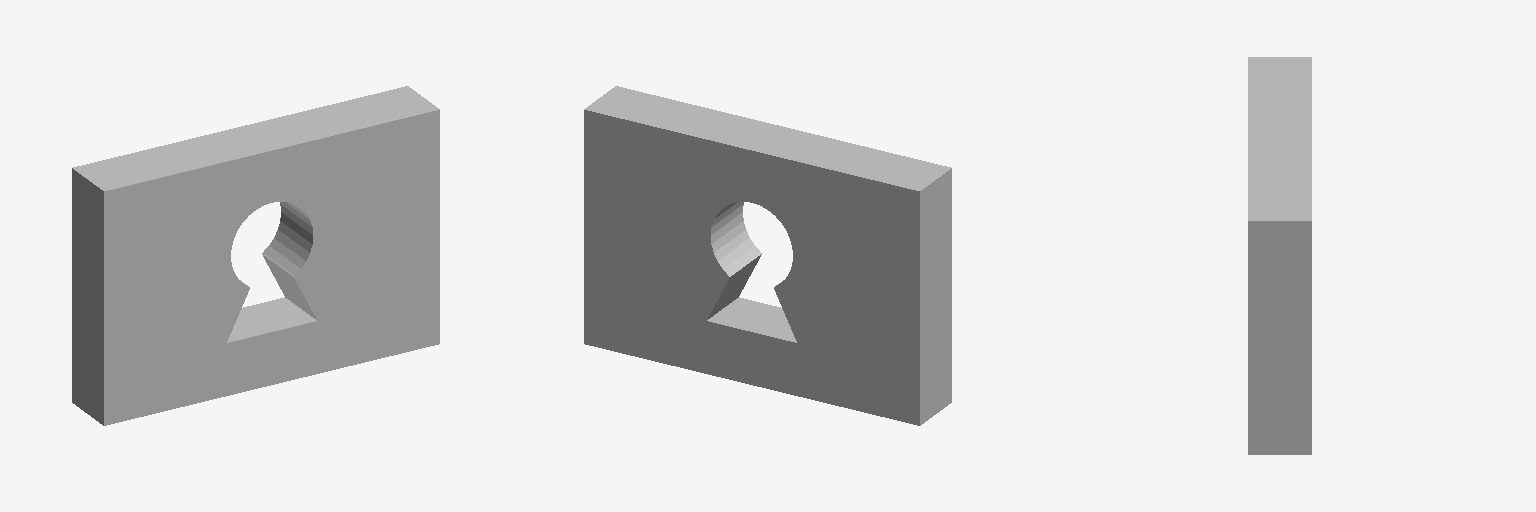
The model's file is Gate.obj.
The picture shows the model from 3 angles: view 1: azimuth 30°, elevation 25°; view 2: azimuth 150°, elevation 25°; view 3: azimuth 270°, elevation 25°; orthographic projection.
Visible parts, largest first — view 1: GATE; view 2: GATE; view 3: GATE.
Part boxes in pixels (x1,y1,x2,y2): GATE: (72, 86, 439, 425); GATE: (584, 86, 951, 425); GATE: (1248, 57, 1311, 454).
Bounding box in the file's own units: 3 × 2 × 0.5.